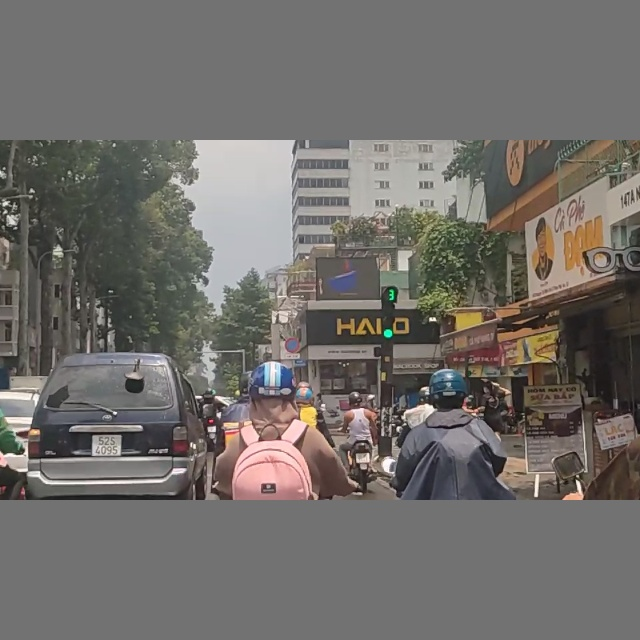P.131a: (283, 337, 301, 355)
